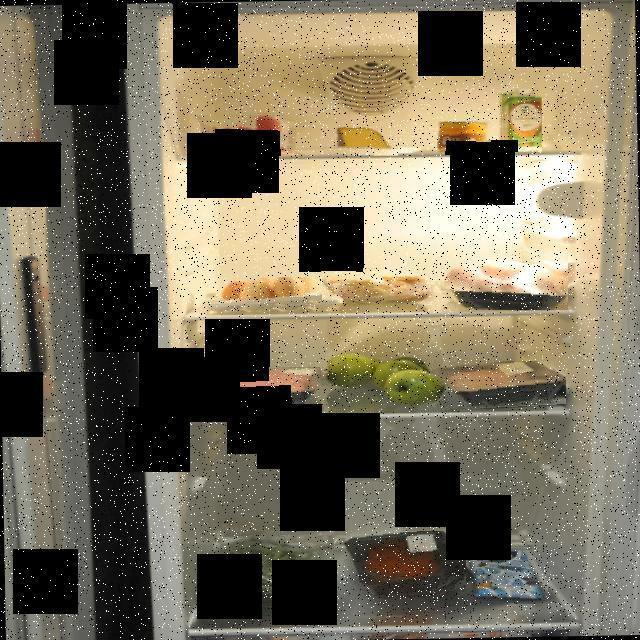apple: (318, 352, 447, 412)
beef: (341, 531, 477, 600)
bread: (322, 268, 436, 306)
cheese: (332, 122, 398, 156)
chicken: (442, 249, 568, 310)
chicken_breast: (426, 362, 566, 412)
chocolate: (466, 545, 550, 601)
corn: (438, 116, 493, 155)
egg: (220, 277, 322, 310)
green_beans: (197, 529, 334, 609)
ground_beef: (200, 367, 322, 415)
heavy_cream: (500, 85, 542, 152)
strawberries: (192, 112, 296, 156)
